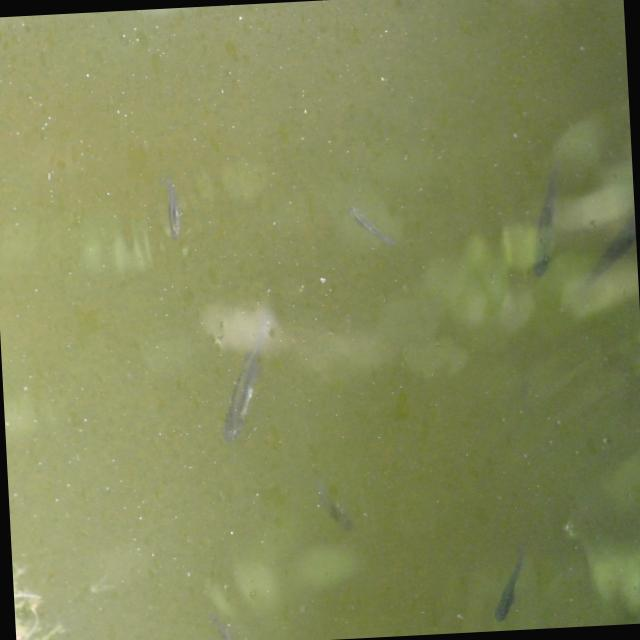Sivrisinek Baligi: (213, 306, 286, 436), (522, 161, 574, 273), (476, 538, 540, 626), (344, 194, 406, 252), (302, 479, 361, 536), (149, 178, 201, 240)
